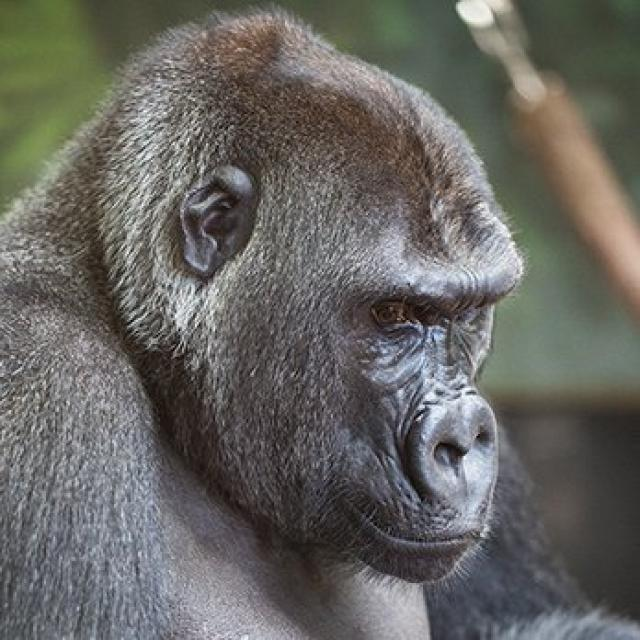Gorilla: (0, 3, 528, 640)
